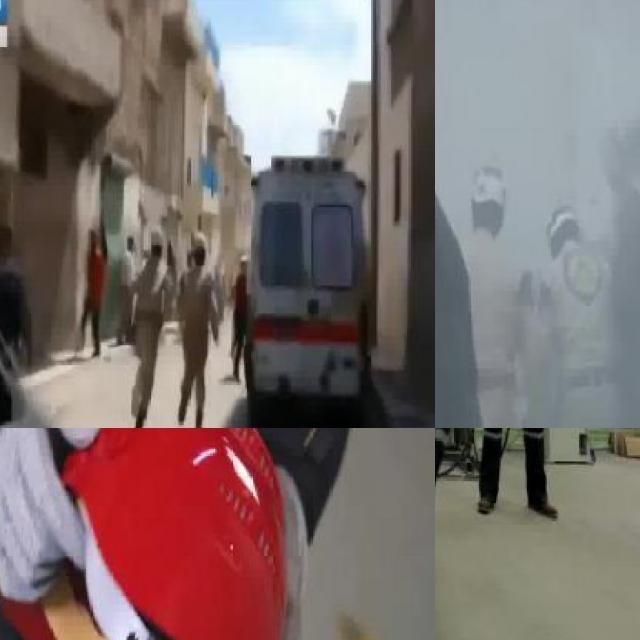apron: (0, 428, 102, 613), (257, 459, 315, 640)
